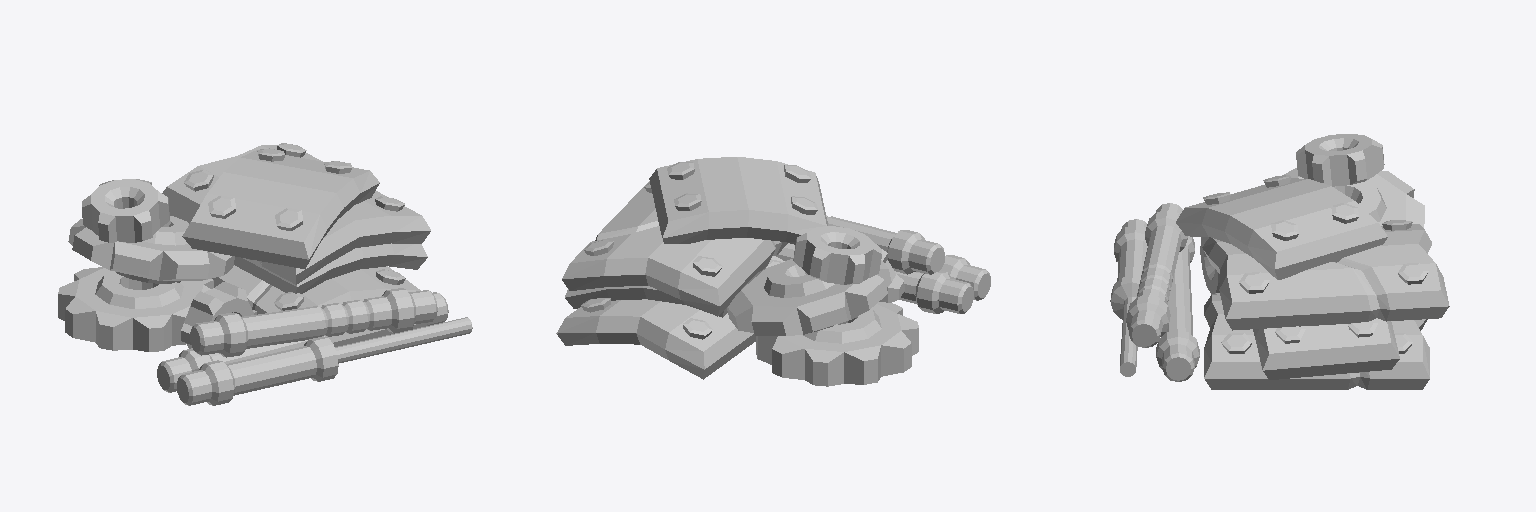
File: Parts_Pile_Large.obj
3 views of the same model, side by side, from view 1: azimuth 30°, elevation 25°; view 2: azimuth 150°, elevation 25°; view 3: azimuth 270°, elevation 25° (orthographic).
Parts seen in each view (by area): view 1: Parts_Pile_Large; view 2: Parts_Pile_Large; view 3: Parts_Pile_Large.
Part boxes in pixels (bbox=[...]): Parts_Pile_Large: bbox=[58, 143, 472, 405]; Parts_Pile_Large: bbox=[556, 157, 990, 386]; Parts_Pile_Large: bbox=[1110, 134, 1449, 389].
Bounding box in the file's own units: 1.74 × 0.7248 × 1.57.